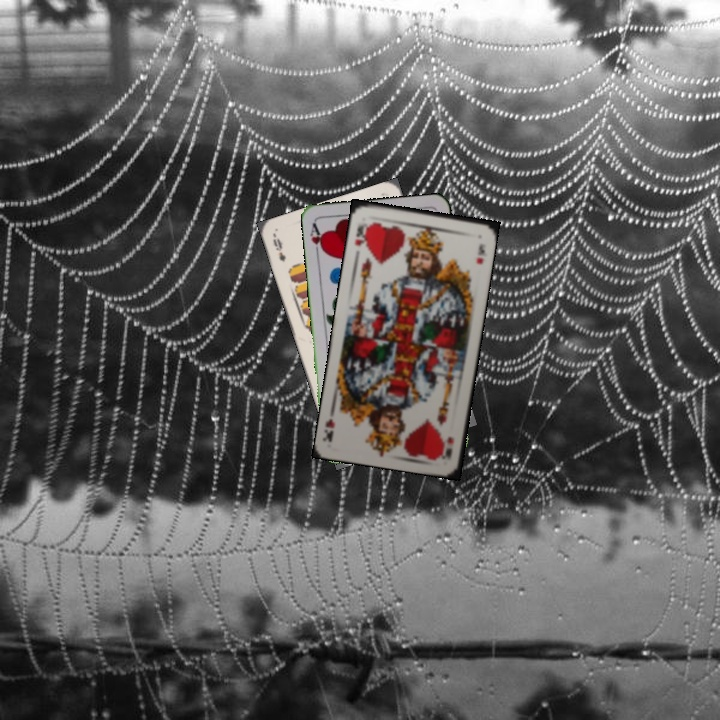E9: (269, 232, 288, 264)
HA: (306, 219, 328, 260)
HK: (350, 219, 372, 249), (438, 433, 456, 462)
